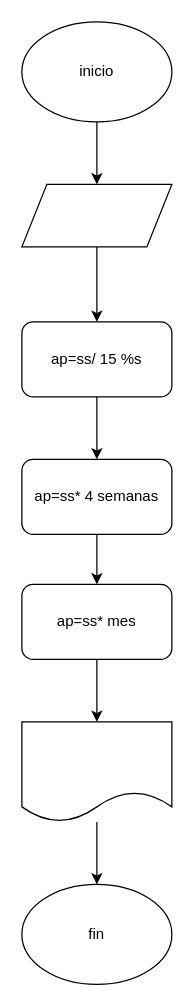
This 194x1006 diagram has some shape labels left out. The shapes that lost their labels are listed below. From the top down, each one's centre as x and y in pixels, then its label:
At (x=96, y=215): "ap, ss".
At (x=96, y=771): "dinero ahrrado".
